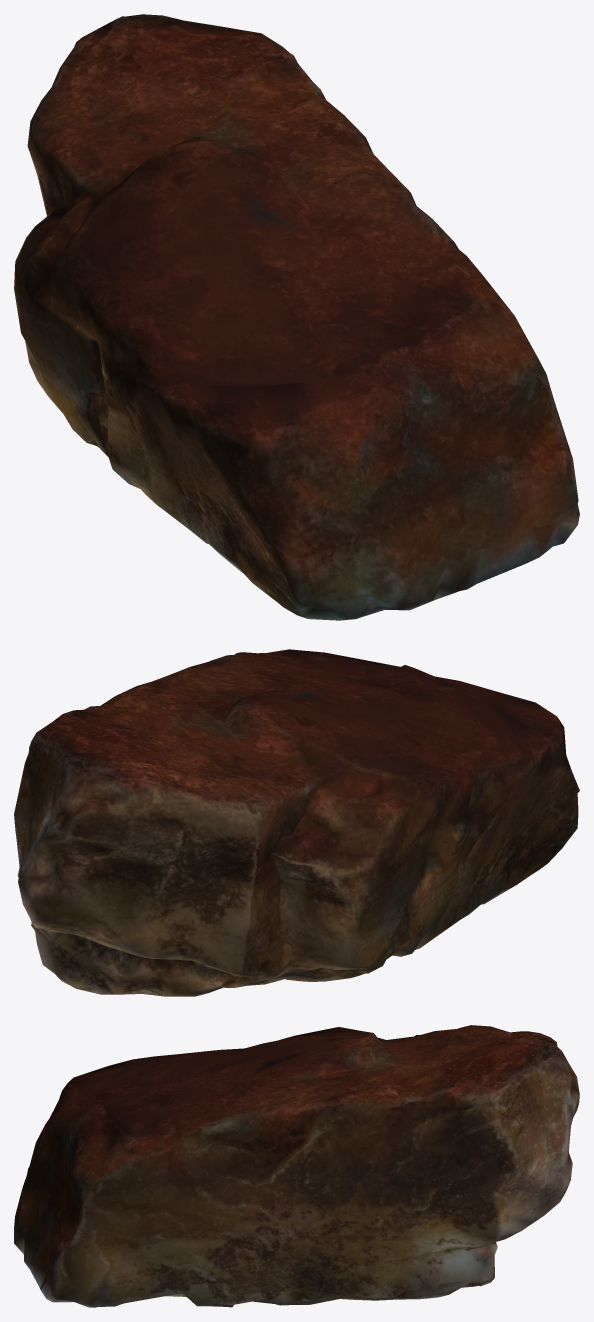
The model's file is rock_07.glb.
The picture shows the model from 3 angles, top to bottom: view 1: azimuth 30°, elevation 25°; view 2: azimuth 150°, elevation 25°; view 3: azimuth 270°, elevation 25°; orthographic projection. The views are drawn at different scales.
Visible parts, largest first — view 1: rock_07; view 2: rock_07; view 3: rock_07.
Part boxes in pixels (x1,y1,x2,y2): rock_07: [14, 14, 579, 620]; rock_07: [14, 649, 579, 996]; rock_07: [14, 1025, 579, 1307].
Size of the model in its own units: 0.1686 by 0.1434 by 0.3199.
1 material, 1 textured.
